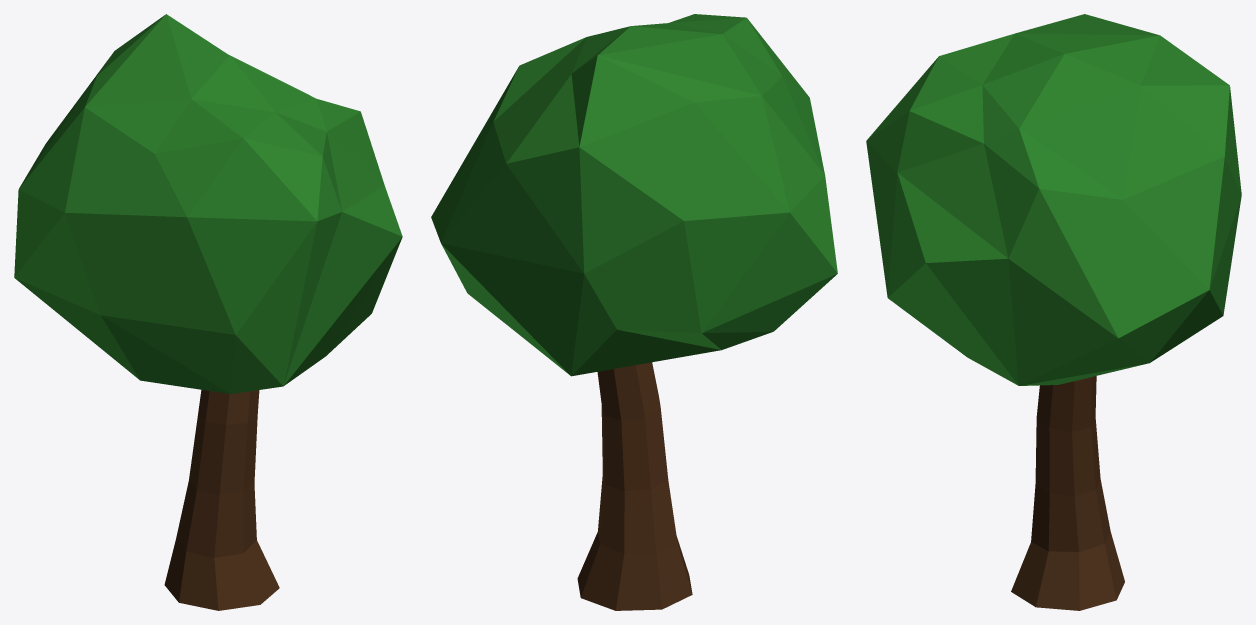
File: Tree4.fbx
The picture shows the model from 3 angles, left to right: view 1: azimuth 30°, elevation 25°; view 2: azimuth 150°, elevation 25°; view 3: azimuth 270°, elevation 25°; orthographic projection. The views are drawn at different scales.
Parts seen in each view (by area): view 1: Cylinder.014; view 2: Cylinder.014; view 3: Cylinder.014.
Boxes of the visible parts, box(x1,y1,x2,y2) form: Cylinder.014: box(14, 14, 402, 610); Cylinder.014: box(431, 14, 837, 610); Cylinder.014: box(866, 14, 1241, 610).
Bounding box in the file's own units: 262 × 366 × 228.
